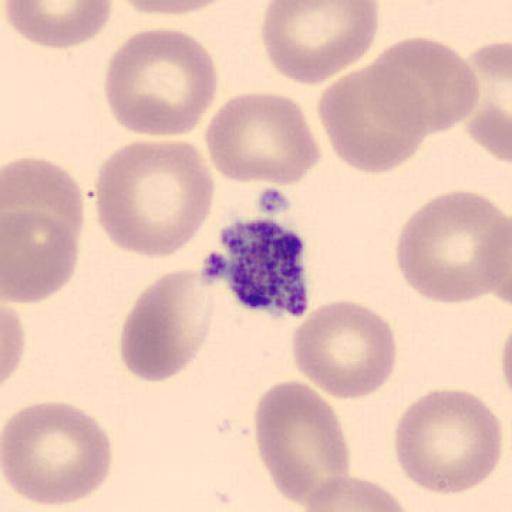Platelet: (217, 215, 312, 320)
RBC: (94, 136, 216, 259), (394, 189, 512, 306), (316, 62, 432, 176), (102, 28, 220, 138), (253, 378, 351, 508), (392, 387, 504, 497), (0, 400, 114, 508), (118, 266, 216, 384), (203, 90, 320, 188), (290, 298, 398, 402), (369, 36, 480, 136), (260, 0, 380, 86), (2, 155, 86, 250), (2, 207, 80, 305), (462, 39, 512, 164), (4, 0, 113, 49), (300, 474, 415, 512), (482, 212, 512, 308), (2, 302, 26, 385), (116, 0, 231, 17), (499, 322, 512, 396)
